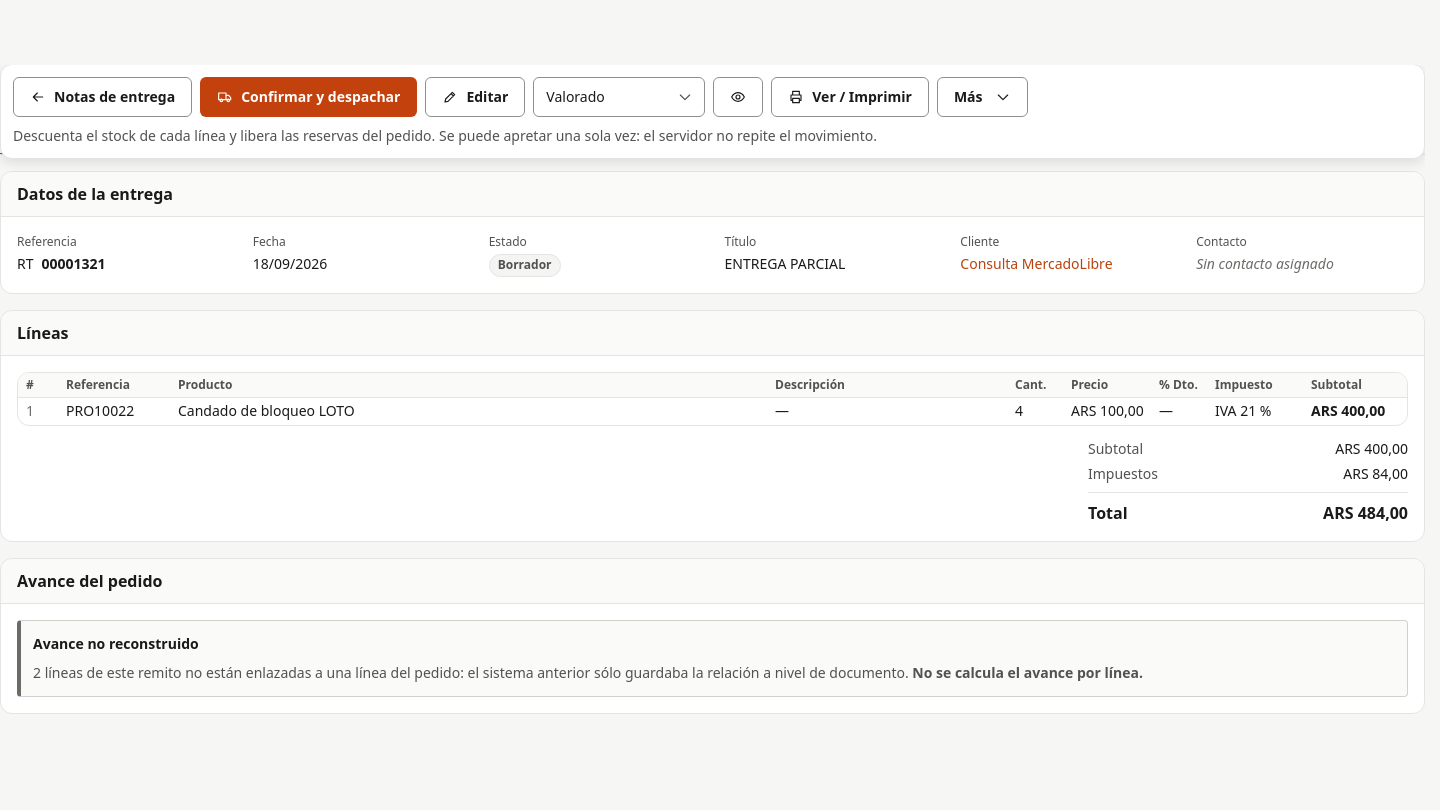
Test case: Enviar por mail › vive adentro de «Más»
Expected: the button "Enviar por mail" is not shown
What coordinates should you click on to do the following:
click the button "Más"
I would click on:
 (982, 97)
Its box is [937,77,1028,117].
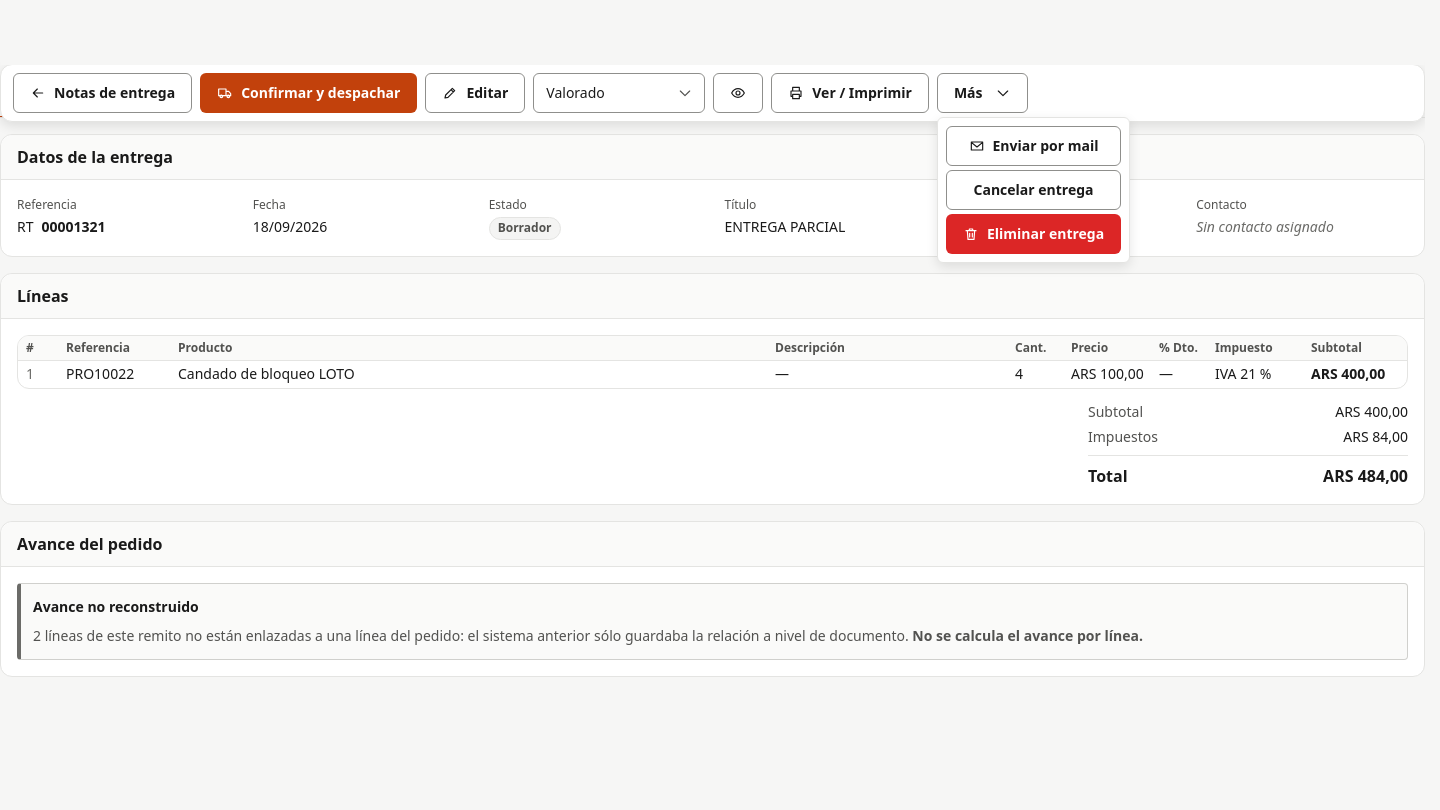
Expected: the button "Enviar por mail" is shown, [946,126,1121,166]
